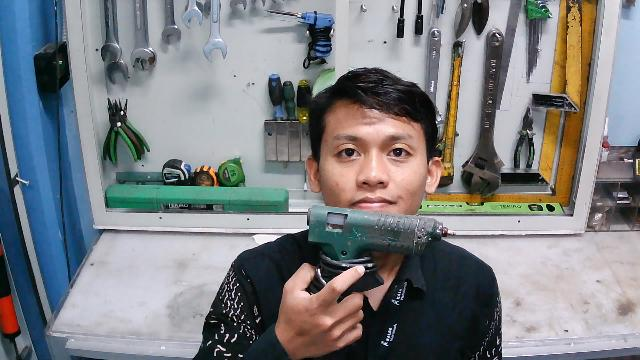gun_lem: (305, 203, 460, 301)
